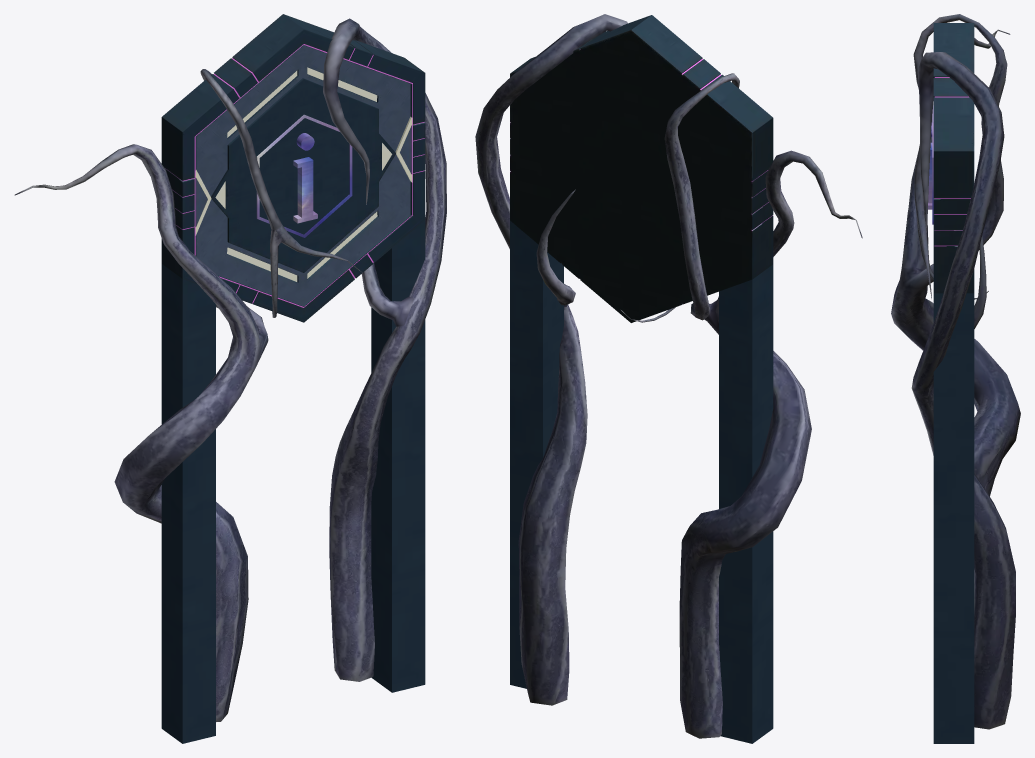
The model's file is pm-info-panel-01.glb.
3 renders of one model, left to right at view 1: azimuth 30°, elevation 25°; view 2: azimuth 150°, elevation 25°; view 3: azimuth 270°, elevation 25°, orthographic. The views are drawn at different scales.
Parts seen in each view (by area): view 1: InfoPanel01_Art; view 2: InfoPanel01_Art; view 3: InfoPanel01_Art.
Boxes of the visible parts, bbox=[...] form: InfoPanel01_Art: bbox=[14, 14, 446, 743]; InfoPanel01_Art: bbox=[475, 14, 862, 743]; InfoPanel01_Art: bbox=[891, 14, 1020, 743].
Bounding box in the file's own units: 1.97 × 3.17 × 0.563.
Materials: 2 (2 with a texture image).
